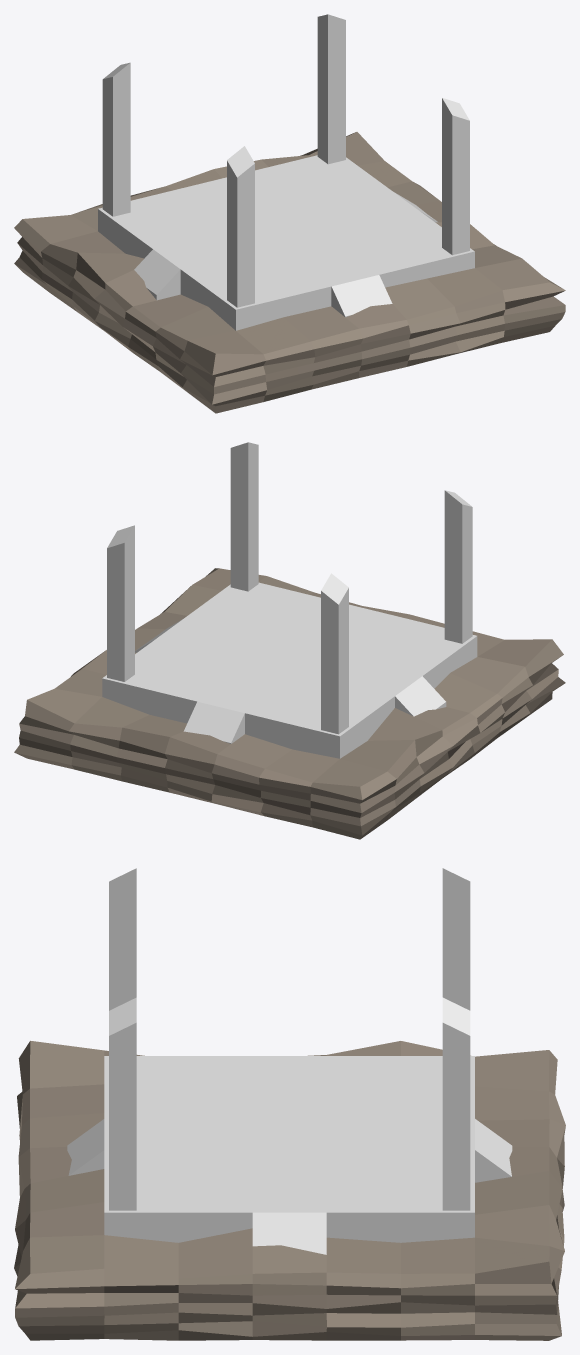
File: CosmosArena.fbx
3 renders of one model, top to bottom at view 1: azimuth 30°, elevation 25°; view 2: azimuth 150°, elevation 25°; view 3: azimuth 270°, elevation 25°, orthographic. The views are drawn at different scales.
Visible parts, largest first — view 1: Cube, RockyPlatform; view 2: Cube, RockyPlatform; view 3: RockyPlatform, Cube.
Part boxes in pixels (x1,y1,x2,y2): Cube: [98, 14, 474, 330]; RockyPlatform: [14, 132, 565, 413]; Cube: [102, 442, 477, 758]; RockyPlatform: [14, 568, 565, 839]; RockyPlatform: [14, 1040, 565, 1340]; Cube: [67, 868, 512, 1254].
Bounding box in the file's own units: 74.58 × 44.54 × 74.45.
